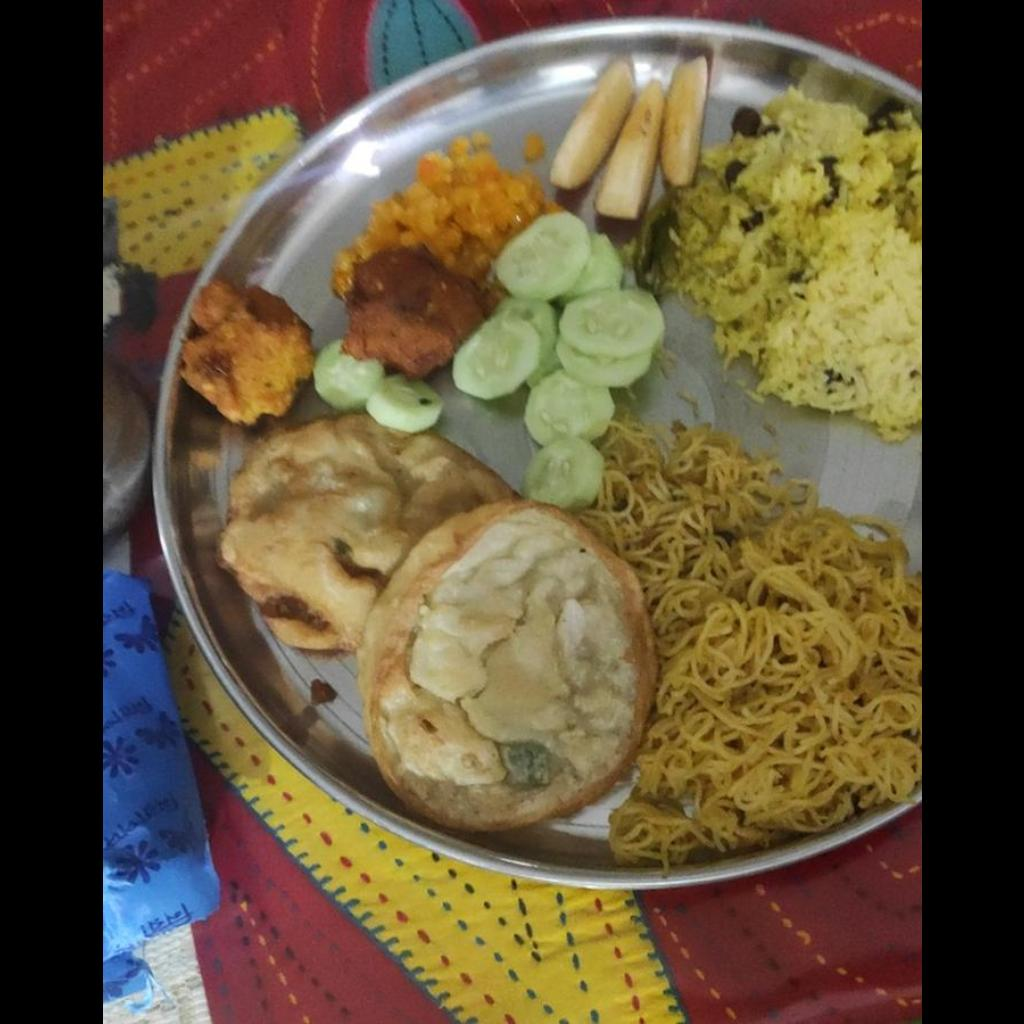apple: (552, 51, 712, 218)
burinda: (324, 146, 536, 273)
cucumber: (442, 217, 672, 499)
khichuri: (673, 95, 915, 435)
noodles: (589, 417, 920, 865)
peyaju: (183, 239, 492, 427)
sweets: (217, 416, 658, 820)
